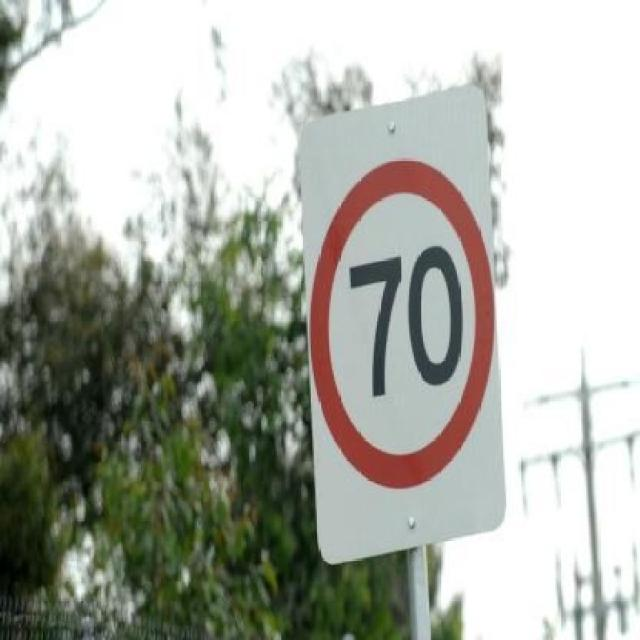forb_speed_over_70: (313, 156, 487, 481)
